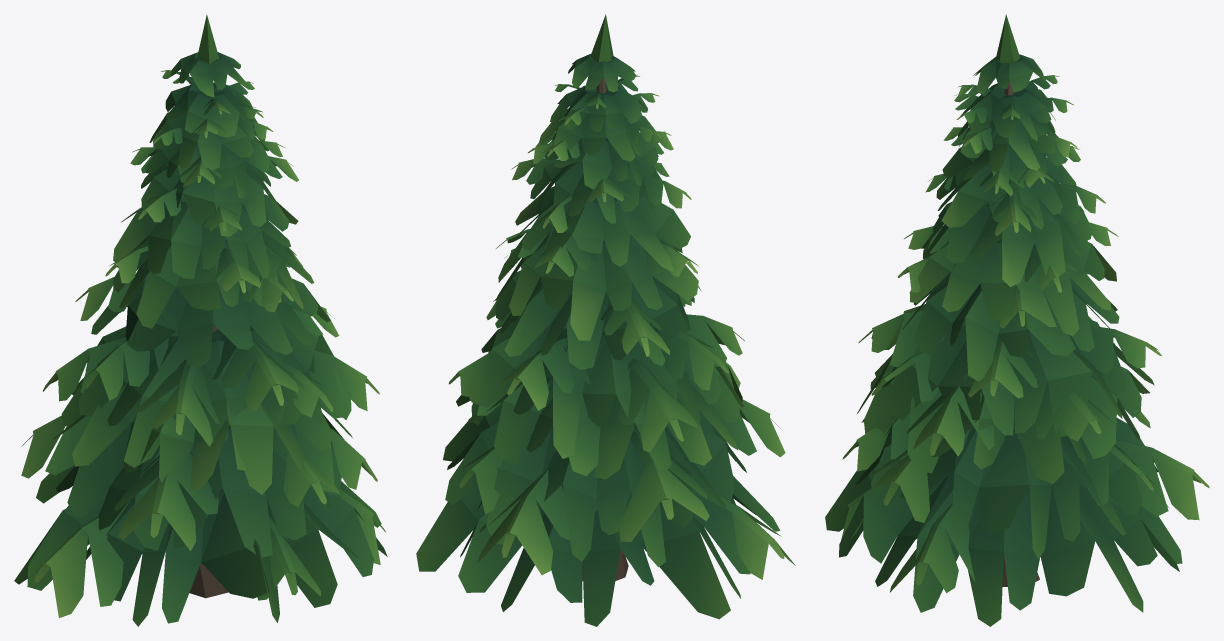
File: spruce_M_wide_std_s35.glb
The picture shows the model from 3 angles, left to right: view 1: azimuth 30°, elevation 25°; view 2: azimuth 150°, elevation 25°; view 3: azimuth 270°, elevation 25°; orthographic projection. The views are drawn at different scales.
Visible parts, largest first — view 1: Tree; view 2: Tree; view 3: Tree.
Boxes of the visible parts, x1,y1,x2,y2 form: Tree: [14, 14, 387, 626]; Tree: [416, 14, 795, 626]; Tree: [825, 14, 1209, 626].
Size of what is drawn, in the model's own units: 3.74 by 5.94 by 3.69.
